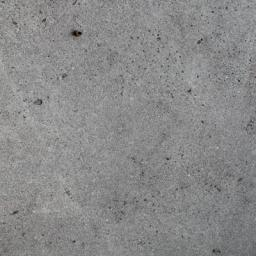FOD: (72, 28, 86, 41)
